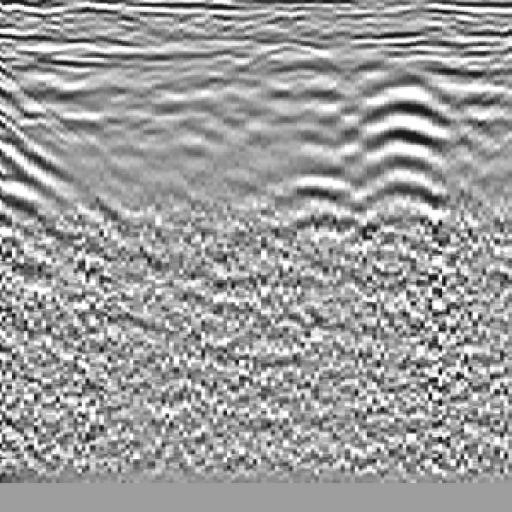metalic: (196, 32, 379, 275)
nonmetalic: (1, 26, 129, 284)
